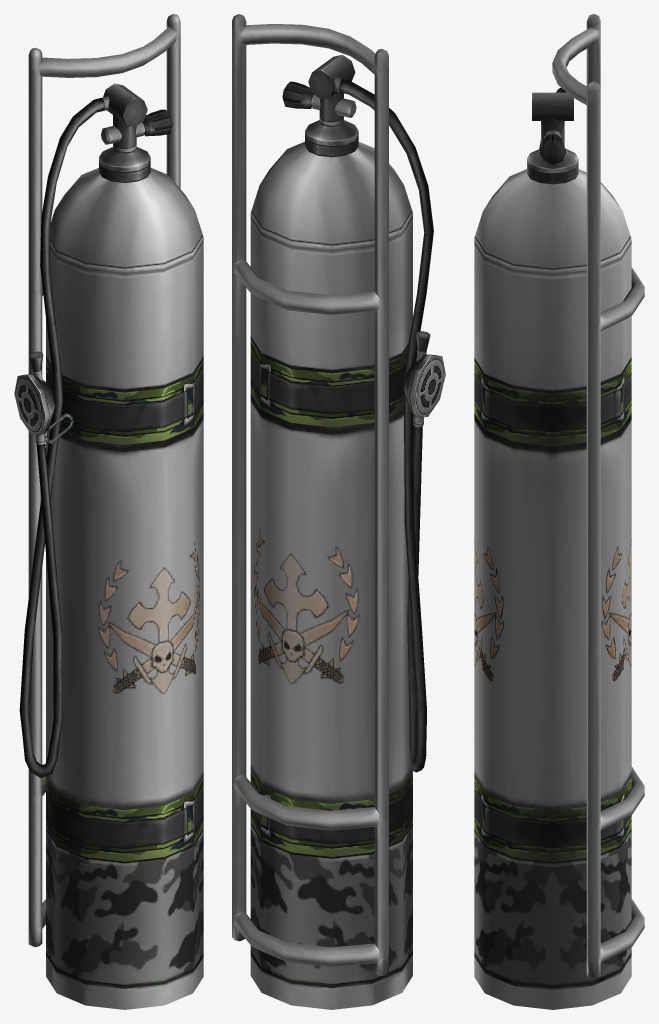
Rendered from Hero_Ricardo_Cos18Summer_Weapon.fbx.
3 views of the same model, side by side, from view 1: azimuth 30°, elevation 25°; view 2: azimuth 150°, elevation 25°; view 3: azimuth 270°, elevation 25° (orthographic). The views are drawn at different scales.
Parts seen in each view (by area): view 1: Hero_Ricardo_Cos18Summer_Weapon; view 2: Hero_Ricardo_Cos18Summer_Weapon; view 3: Hero_Ricardo_Cos18Summer_Weapon.
Part boxes in pixels (x1,y1,x2,y2): Hero_Ricardo_Cos18Summer_Weapon: (14,14,203,1009); Hero_Ricardo_Cos18Summer_Weapon: (232,14,445,1009); Hero_Ricardo_Cos18Summer_Weapon: (474,14,644,1009).
Bounding box in the file's own units: 0.4566 × 2.34 × 0.3897.
1 material, 1 textured.
